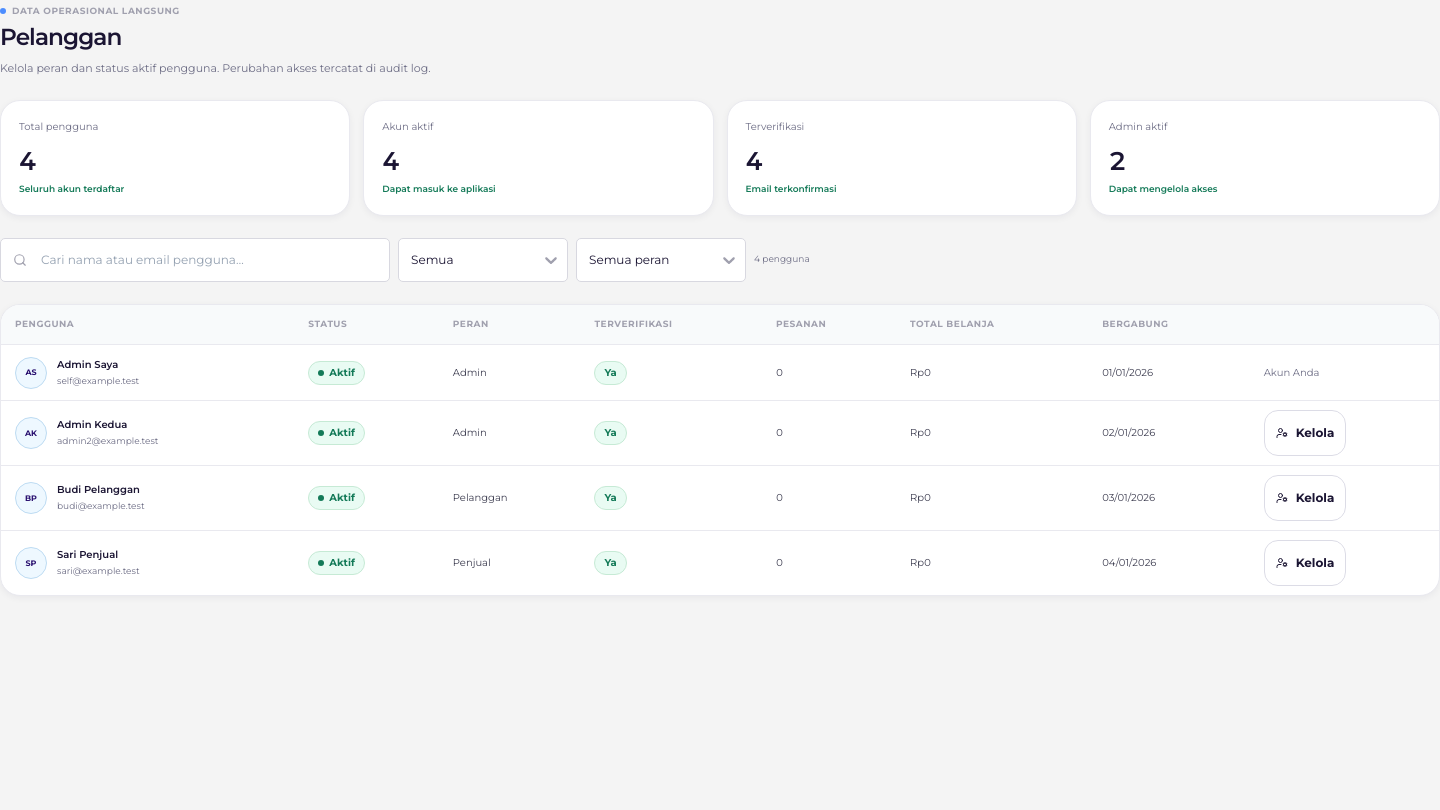
Scenario: manajemen akses pengguna di /dashboard/customers › menampilkan pesan backend 409 last_admin tanpa menutup form
Expected: the text "Admin Kedua" is shown, [57, 418, 127, 431]
Click the button with aria-label "Kelola akses Admin Kedua": (1305, 433) [1264, 410, 1346, 456]
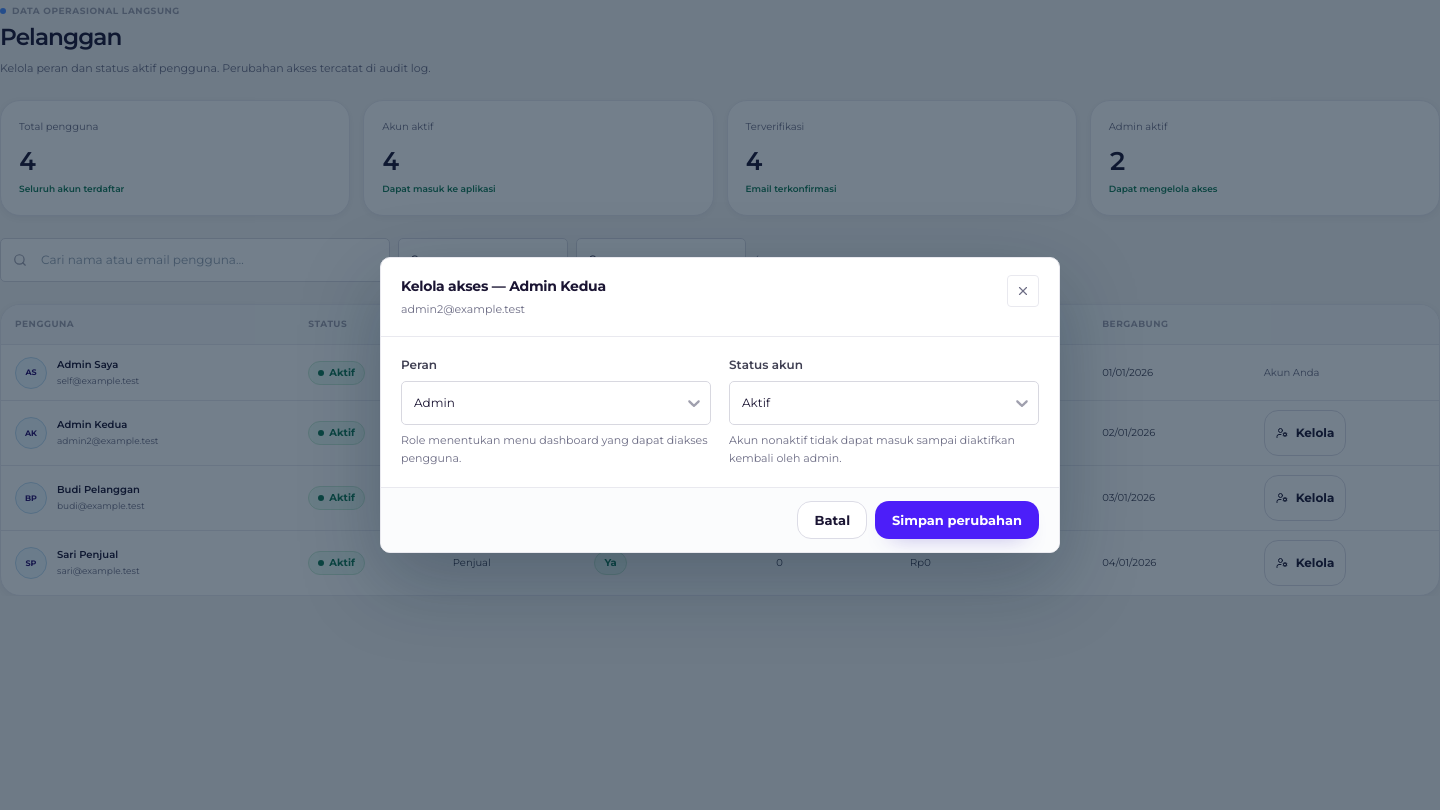
Focus the dropdown labelled "Peran": (414, 403) [412, 393, 415, 413]
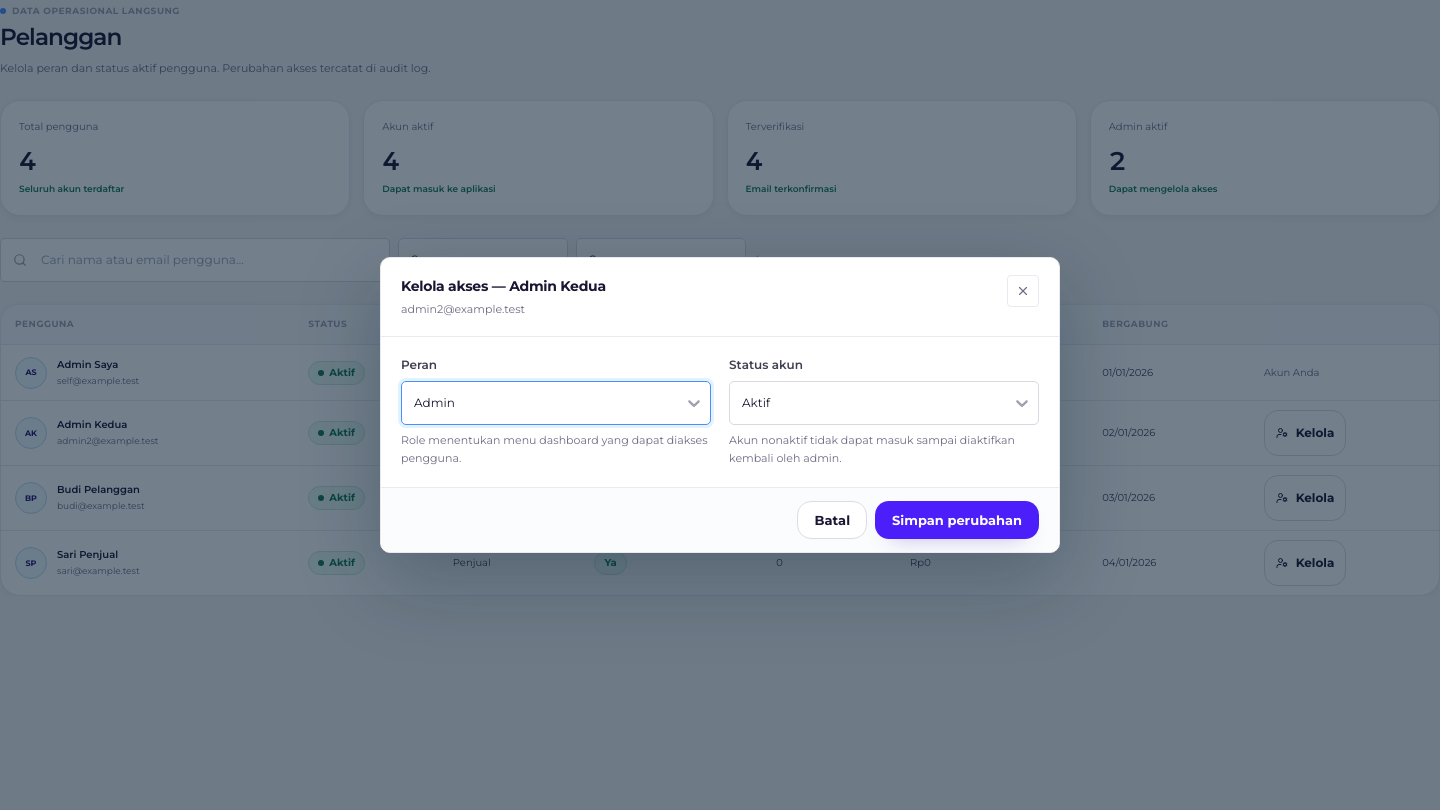
Press ArrowDown in the dropdown labelled "Peran", box [412, 393, 415, 413]
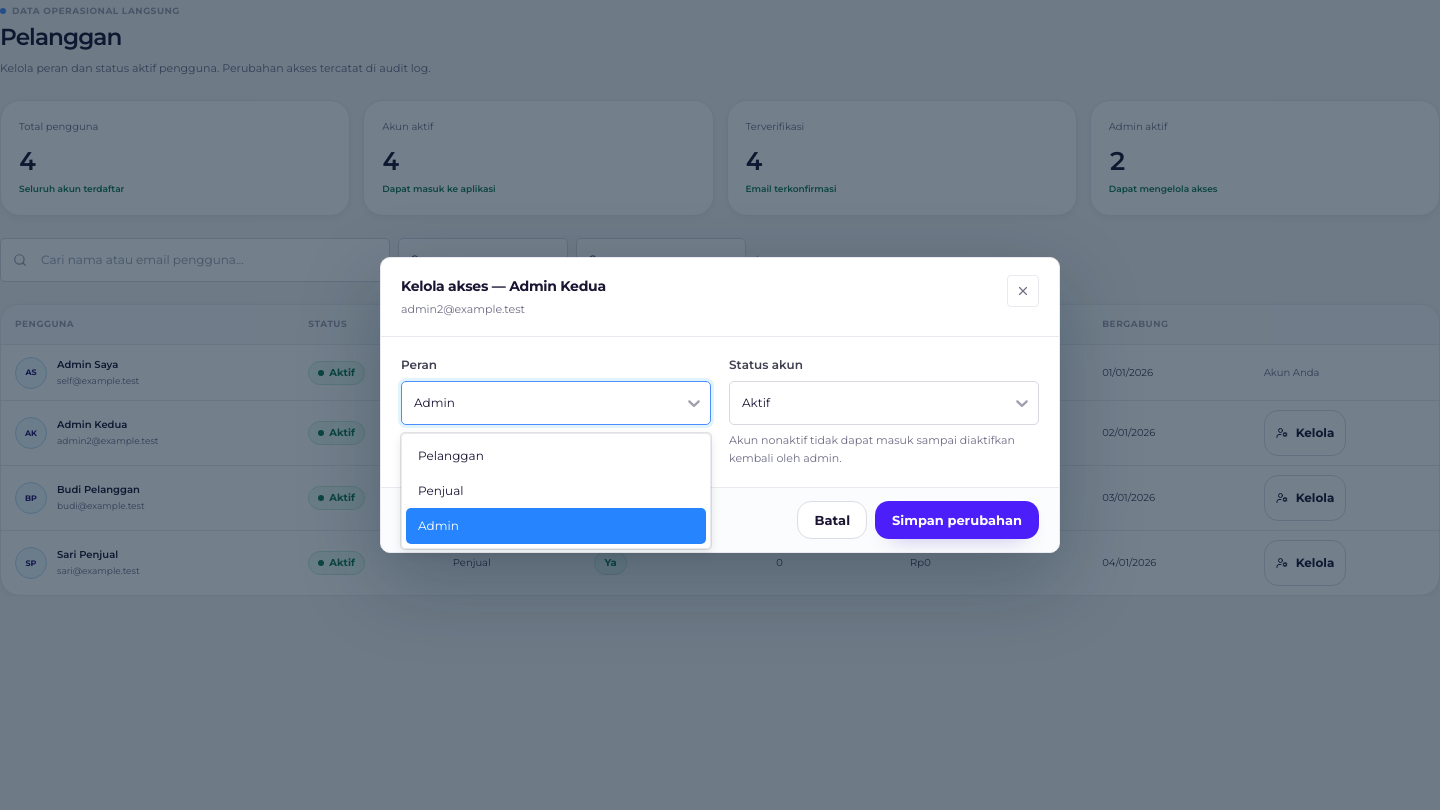
Click the option "Pelanggan": (451, 456) [418, 448, 484, 463]
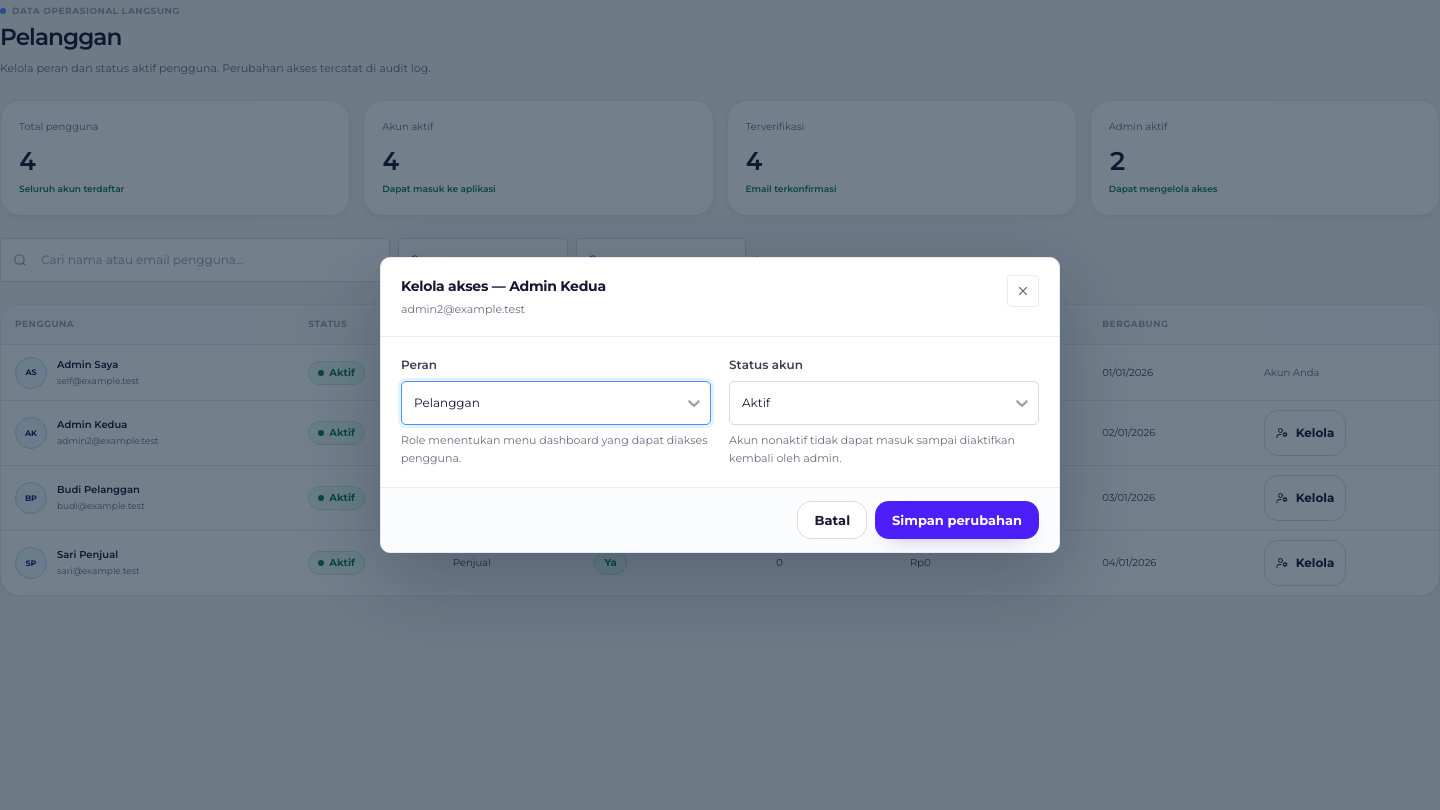
Click the button "Simpan perubahan": (957, 520) [875, 501, 1039, 539]
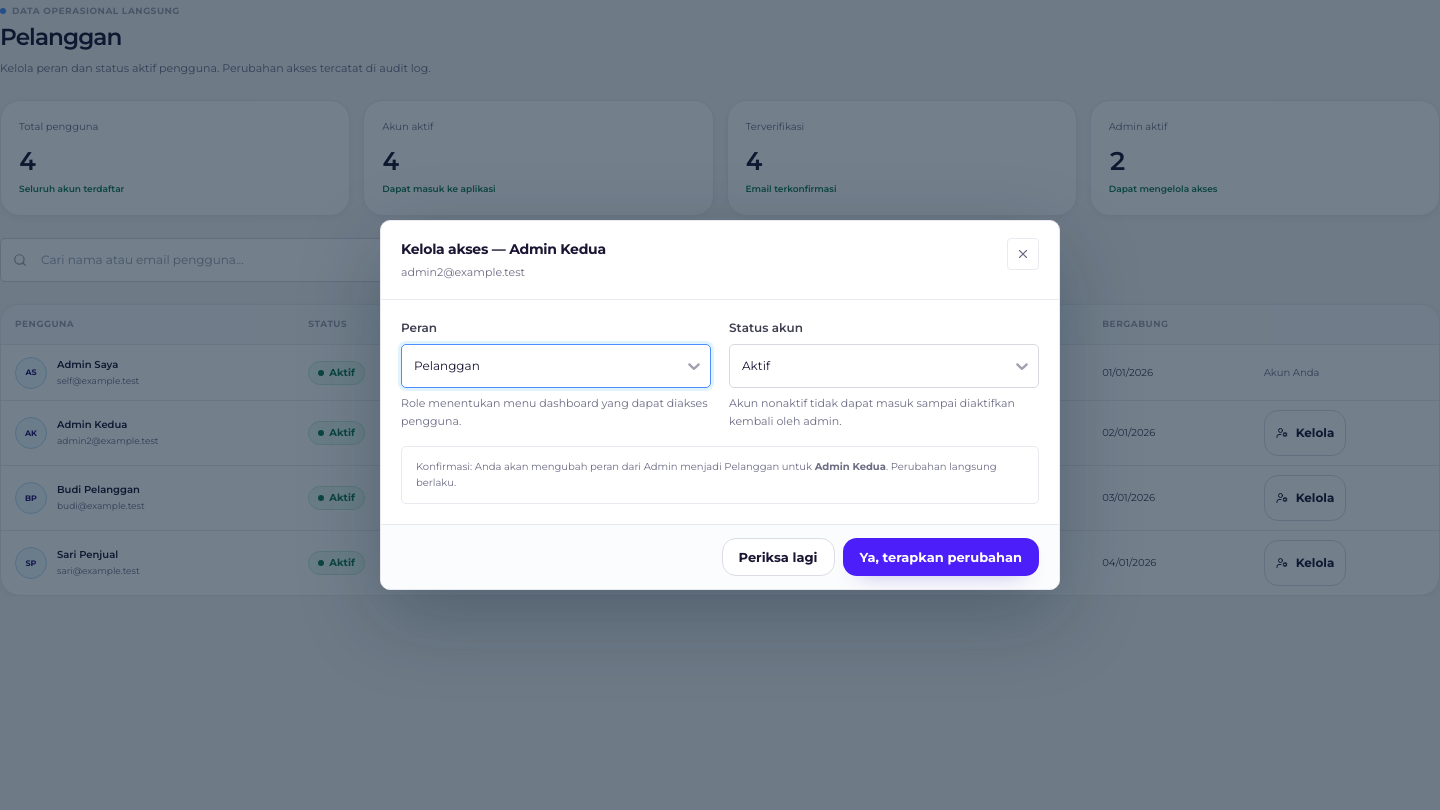
Click the button "Ya, terapkan perubahan": (941, 557) [842, 538, 1039, 576]
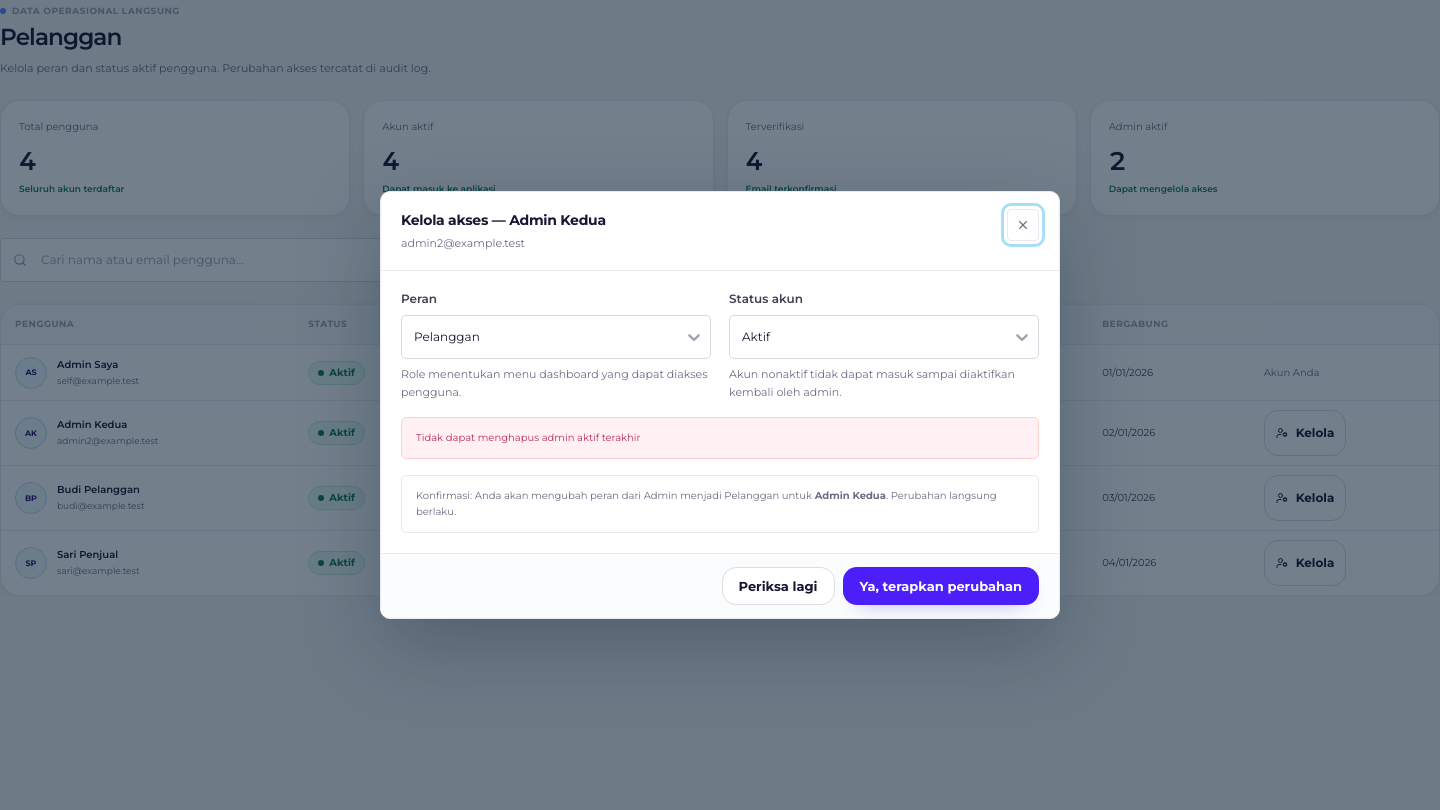
Expected: the heading "Kelola akses — Admin Kedua" is shown, [401, 209, 606, 231]
Expected: the message "Tidak dapat menghapus admin aktif terakhir" is shown, [401, 417, 1039, 459]
